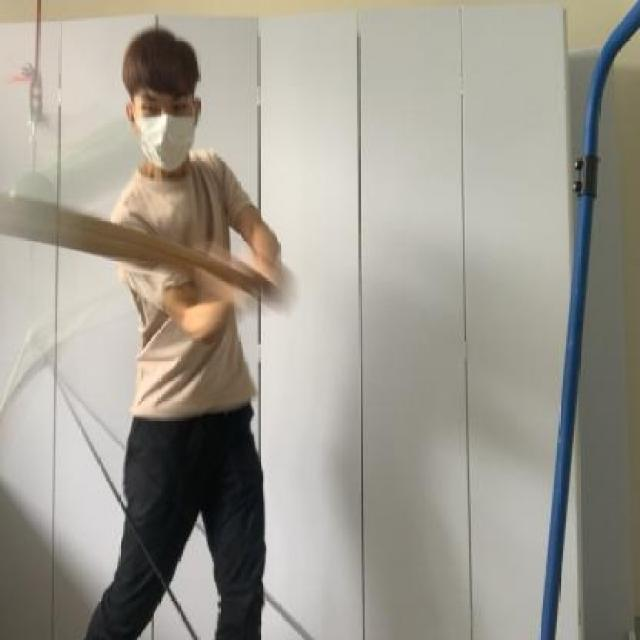baseball: (7, 98, 176, 245)
